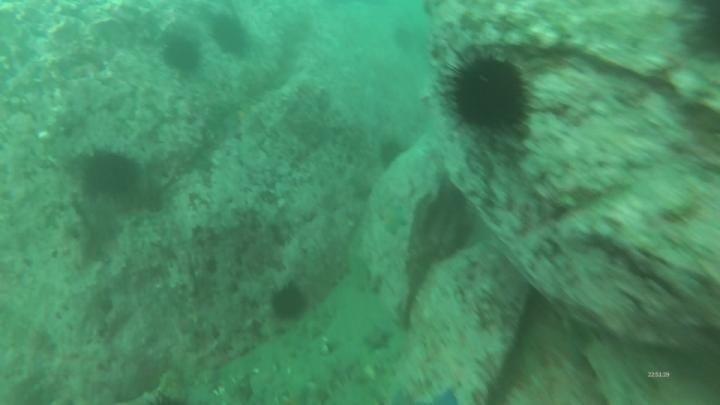echinus: (442, 50, 535, 136), (78, 147, 143, 201), (674, 1, 720, 64), (208, 13, 252, 58), (268, 281, 310, 323), (160, 35, 204, 75), (375, 136, 408, 172)
holothurian: (294, 352, 377, 405)
starfish: (377, 199, 411, 238)
